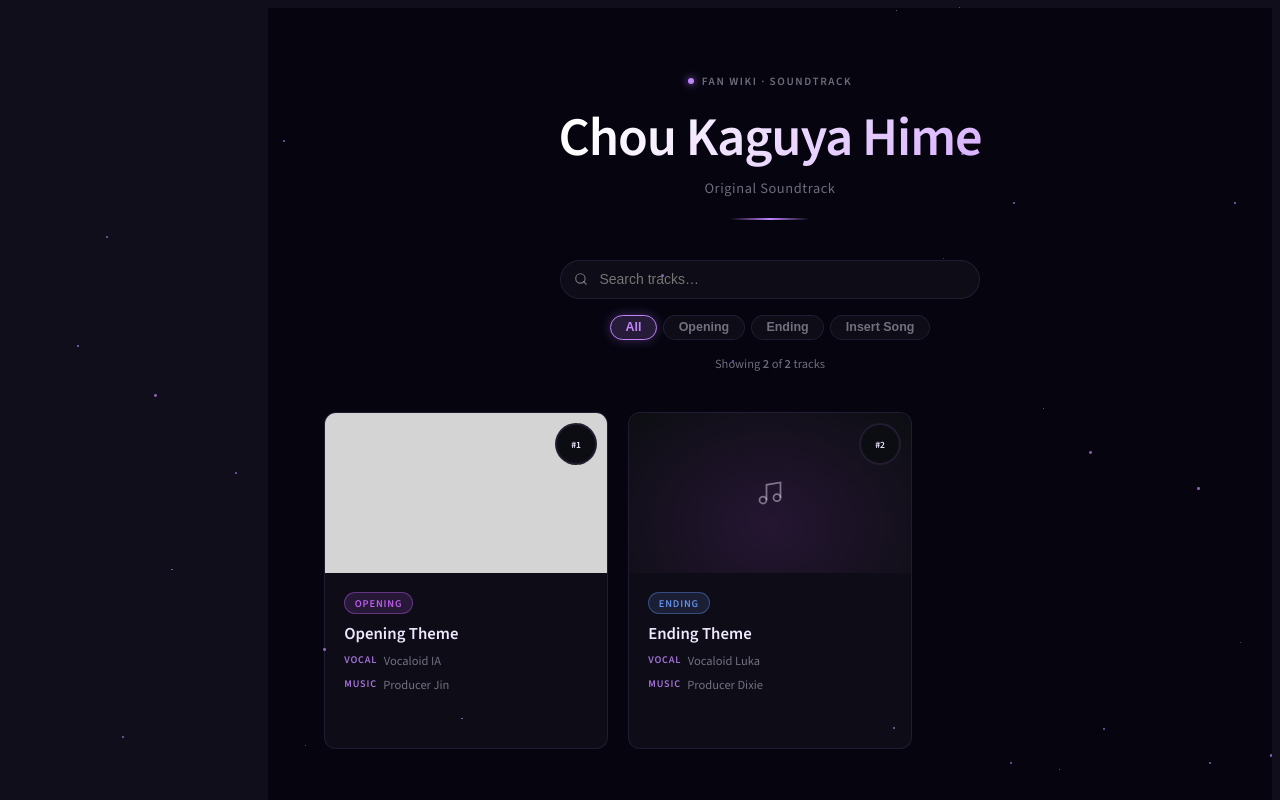
Test: SoundtracksPage › filters tracks by track type pills
Expected: the heading "Opening Theme" is shown, [344,622,458,644]
Note: Click Ending filter pill
Click the button "Ending".
click(788, 328)  # box [751,315,824,340]
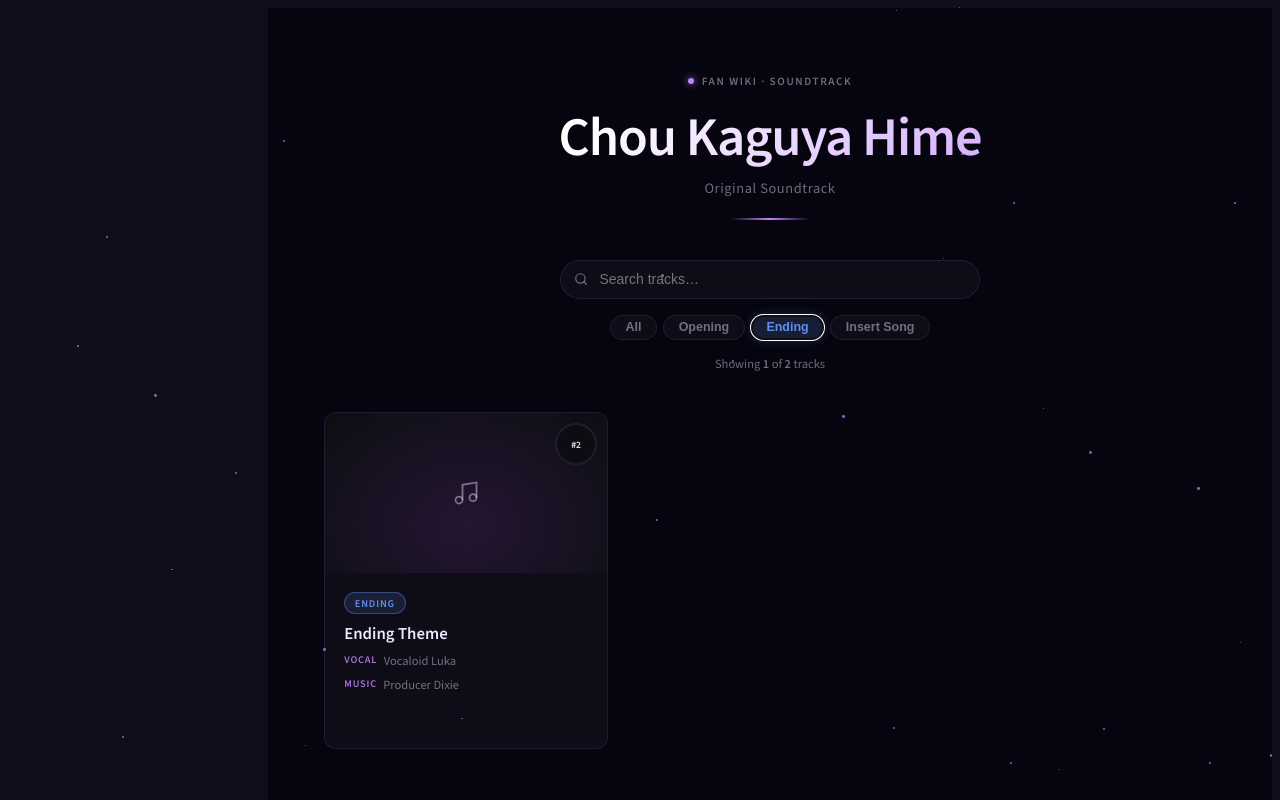
Expected: the heading "Ending Theme" is shown, [344,622,448,644]
Expected: the link "Opening Theme" is gone
Note: Click Opening filter pill
Click the button "Opening".
click(704, 328)  # box [663,315,745,340]
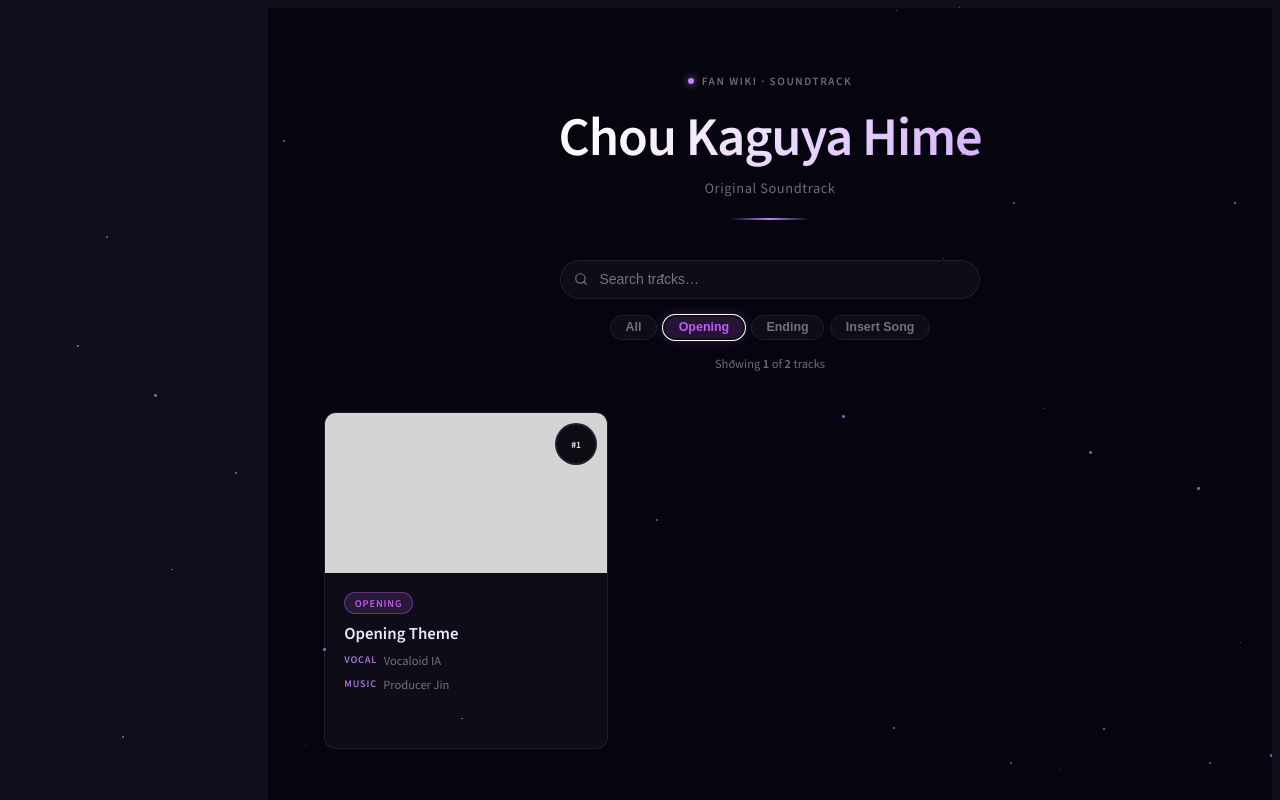
Expected: the heading "Opening Theme" is shown, [344,622,458,644]
Expected: the link "Ending Theme" is gone
